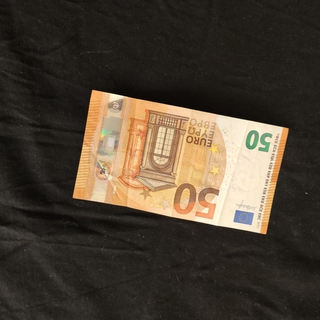50EUROFront: (70, 88, 290, 236)
